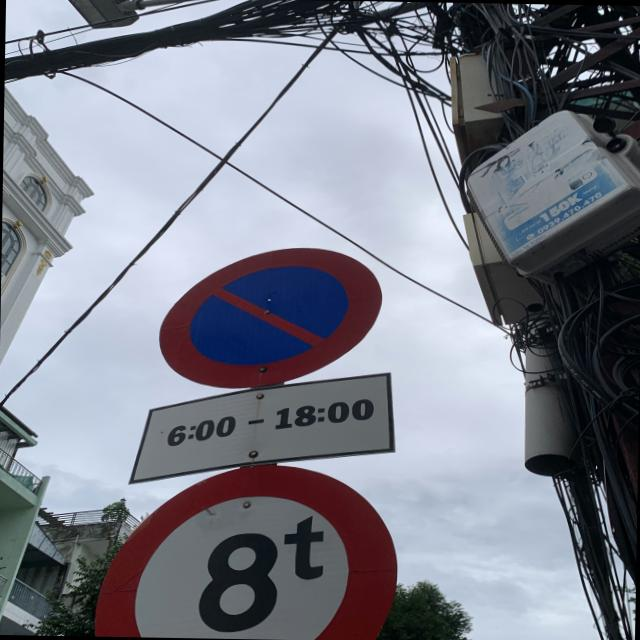Cam_Dau_Xe: (158, 244, 384, 389)
